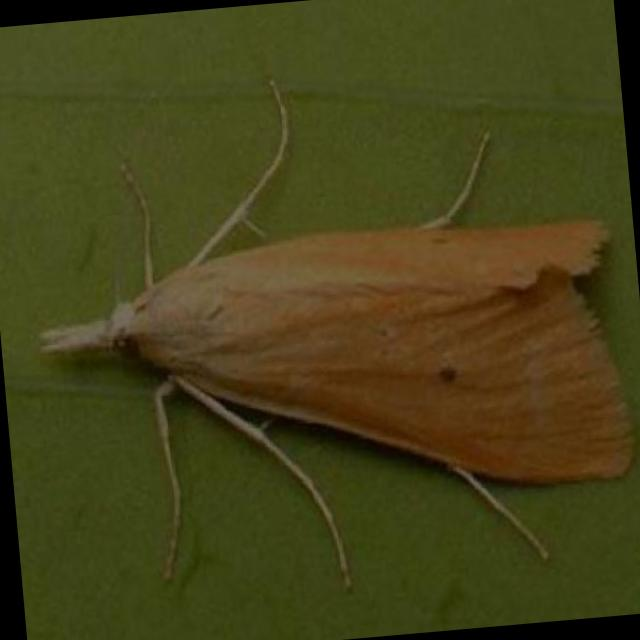stem-borer: (26, 203, 640, 566)
